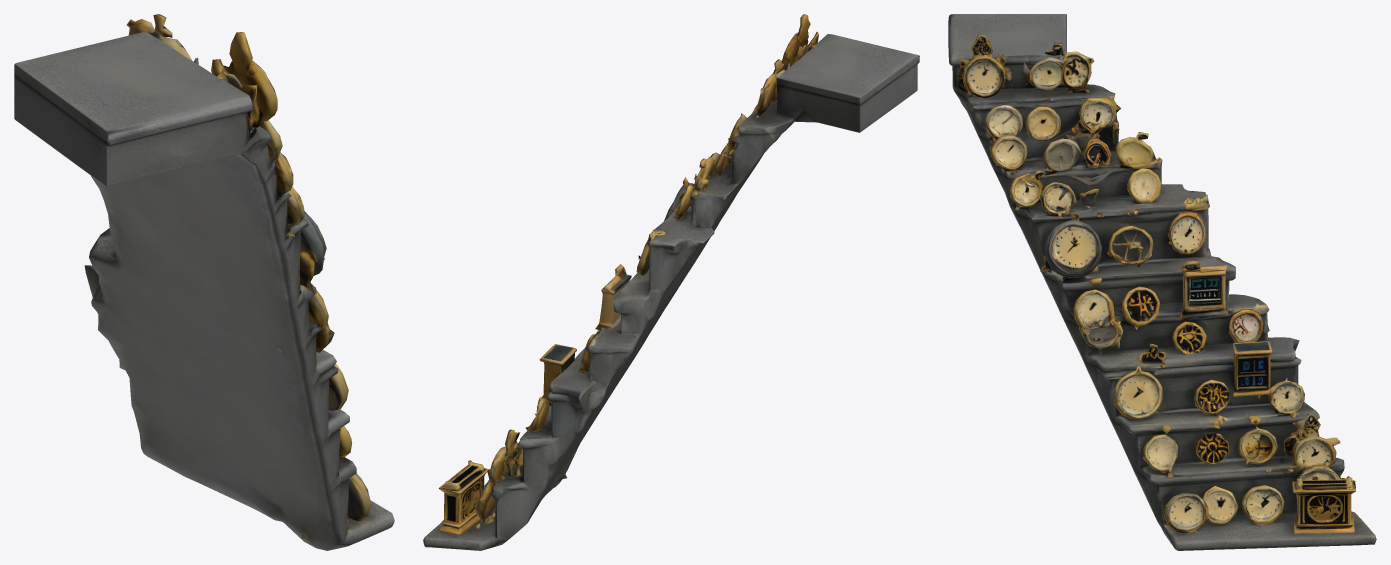
File: staircase.fbx
3 renders of one model, left to right at view 1: azimuth 30°, elevation 25°; view 2: azimuth 150°, elevation 25°; view 3: azimuth 270°, elevation 25°, orthographic. The views are drawn at different scales.
Parts seen in each view (by area): view 1: tripo_node_d6252d60; view 2: tripo_node_d6252d60; view 3: tripo_node_d6252d60.
Part boxes in pixels (x1=…): tripo_node_d6252d60: x1=14, y1=14, x2=394, y2=550; tripo_node_d6252d60: x1=423, y1=14, x2=919, y2=550; tripo_node_d6252d60: x1=948, y1=14, x2=1376, y2=550.
Size of the model in its own units: 0.7147 by 1 by 0.9154.
Materials: 1 (1 with a texture image).
